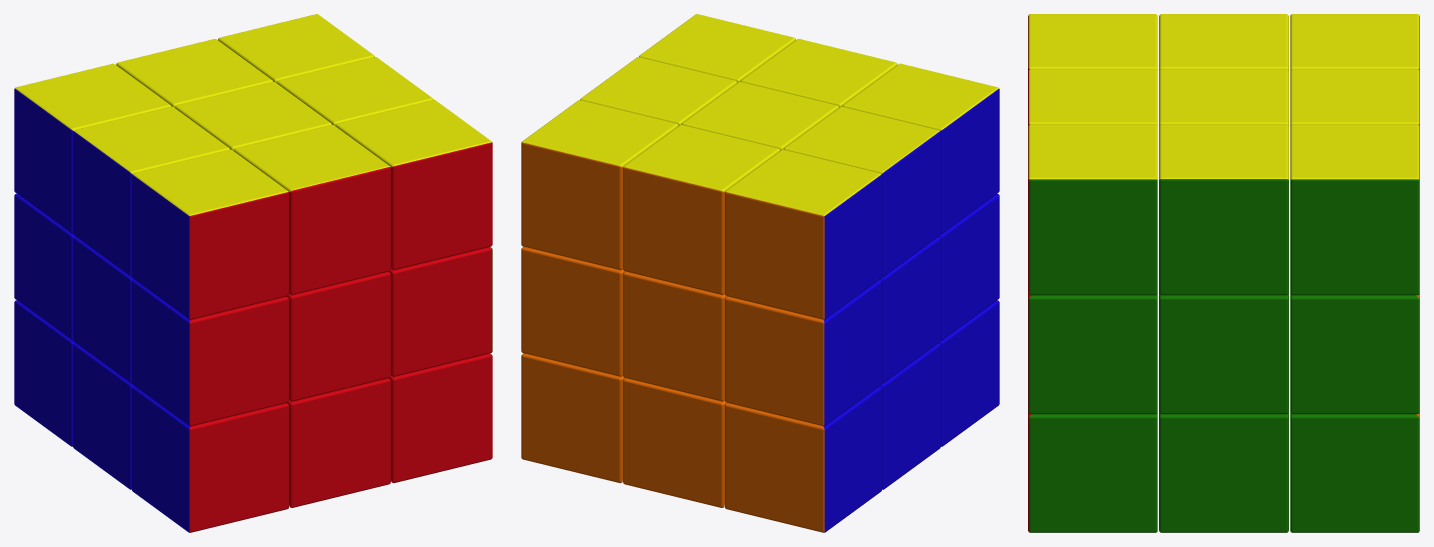
The picture shows the model from 3 angles, left to right: view 1: azimuth 30°, elevation 25°; view 2: azimuth 150°, elevation 25°; view 3: azimuth 270°, elevation 25°; orthographic projection. The views are drawn at different scales.
Visible parts, largest first — view 1: cube_25, cube_16, cube_7, cube_27, cube_26, cube_19, cube_22, cube_9, cube_18, cube_8, cube_17, cube_4 (+7 smaller); view 2: cube_19, cube_10, cube_1, cube_21, cube_20, cube_25, cube_22, cube_3, cube_12, cube_2, cube_11, cube_4 (+7 smaller); view 3: cube_24, cube_21, cube_27, cube_15, cube_12, cube_18, cube_6, cube_3, cube_9, cube_23, cube_26, cube_22 (+3 smaller).
Boxes of the visible parts, <box> form: cube_25: <box>132,149,288,319</box>; cube_16: <box>132,280,288,426</box>; cube_7: <box>132,386,288,532</box>; cube_27: <box>335,100,492,270</box>; cube_26: <box>233,125,390,294</box>; cube_19: <box>14,63,171,233</box>; cube_22: <box>73,106,229,276</box>; cube_9: <box>388,353,492,483</box>; cube_18: <box>389,247,492,376</box>; cube_8: <box>287,378,390,507</box>; cube_17: <box>287,271,390,401</box>; cube_4: <box>73,343,133,489</box>; cube_19: <box>725,149,881,319</box>; cube_10: <box>725,280,881,426</box>; cube_1: <box>725,386,881,532</box>; cube_21: <box>521,100,678,270</box>; cube_20: <box>623,125,780,294</box>; cube_25: <box>842,63,999,233</box>; cube_22: <box>784,106,940,276</box>; cube_3: <box>521,353,625,483</box>; cube_12: <box>521,247,624,376</box>; cube_2: <box>623,378,726,507</box>; cube_11: <box>623,271,726,401</box>; cube_4: <box>880,343,940,489</box>; cube_24: <box>1159,124,1288,295</box>; cube_21: <box>1290,124,1419,295</box>; cube_27: <box>1028,124,1157,295</box>; cube_15: <box>1159,293,1288,414</box>; cube_12: <box>1290,293,1419,414</box>; cube_18: <box>1028,293,1157,414</box>; cube_6: <box>1159,412,1288,532</box>; cube_3: <box>1290,412,1419,532</box>; cube_9: <box>1028,412,1157,532</box>; cube_23: <box>1159,69,1288,126</box>; cube_26: <box>1028,69,1157,126</box>; cube_22: <box>1159,14,1288,71</box>.
Size of the model in its own units: 3.02 by 3.02 by 3.02.
